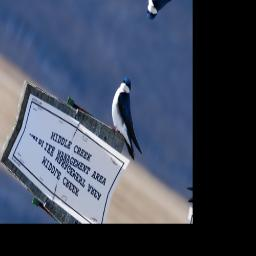Swallow: (100, 71, 160, 163)
